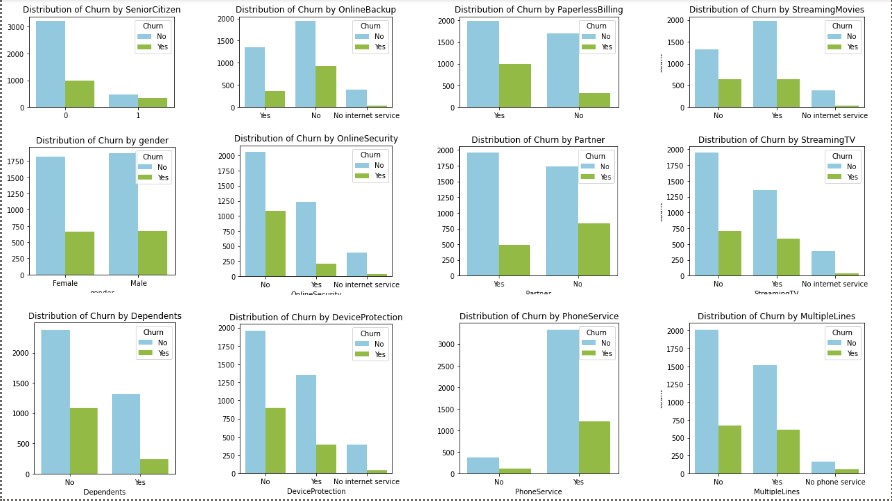

Layout of this report page (visuals, bound fields, positions):
{"tool":"powerbi","page":{"name":"Churn_Analysis","canvas":[1280,720],"ordinal":1},"visuals":[{"type":"pythonVisual","fields":{"Values":["dataset.gender"]},"box":[0,179.5,281,248.8],"z":0},{"type":"pythonVisual","fields":{"Values":["dataset.SeniorCitizen"]},"box":[0,0,280.2,179.5],"z":1000},{"type":"pythonVisual","fields":{"Values":["dataset.Dependents"]},"box":[8.8,427.3,272.2,292.7],"z":2000},{"type":"pythonVisual","fields":{"Values":["dataset.DeviceProtection"]},"box":[302.3,429.2,292.7,289.8],"z":3000},{"type":"pythonVisual","fields":{"Values":["dataset.MultipleLines"]},"box":[942.8,428.1,335.5,291.9],"z":4000},{"type":"pythonVisual","fields":{"Values":["dataset.OnlineBackup"]},"box":[301.4,0,293.6,179.5],"z":5000},{"type":"pythonVisual","fields":{"Values":["dataset.OnlineSecurity"]},"box":[302.6,176.6,292.7,254.6],"z":6000},{"type":"pythonVisual","fields":{"Values":["dataset.PaperlessBilling"]},"box":[616.2,0,305.3,179.5],"z":7000},{"type":"pythonVisual","fields":{"Values":["dataset.Partner"]},"box":[616.8,178,304.4,251.7],"z":8000},{"type":"pythonVisual","fields":{"Values":["dataset.PhoneService"]},"box":[616.2,428.1,305.3,291.9],"z":9000},{"type":"pythonVisual","fields":{"Values":["dataset.StreamingMovies"]},"box":[942.8,0,335.5,179.5],"z":10000},{"type":"pythonVisual","fields":{"Values":["dataset.StreamingTV"]},"box":[942.8,178.1,335.5,251.6],"z":11000}]}

Visuals, with their boxes in screenshot pixels (x1, y1, x2, y2), scaled from the page's 1280x720 canvas onto the 892x501 screenshot:
pythonVisual - dataset.gender: <region>0, 125, 196, 298</region>
pythonVisual - dataset.SeniorCitizen: <region>0, 0, 195, 125</region>
pythonVisual - dataset.Dependents: <region>6, 297, 196, 500</region>
pythonVisual - dataset.DeviceProtection: <region>211, 299, 415, 500</region>
pythonVisual - dataset.MultipleLines: <region>657, 298, 891, 500</region>
pythonVisual - dataset.OnlineBackup: <region>210, 0, 415, 125</region>
pythonVisual - dataset.OnlineSecurity: <region>211, 123, 415, 300</region>
pythonVisual - dataset.PaperlessBilling: <region>429, 0, 642, 125</region>
pythonVisual - dataset.Partner: <region>430, 124, 642, 299</region>
pythonVisual - dataset.PhoneService: <region>429, 298, 642, 500</region>
pythonVisual - dataset.StreamingMovies: <region>657, 0, 891, 125</region>
pythonVisual - dataset.StreamingTV: <region>657, 124, 891, 299</region>
